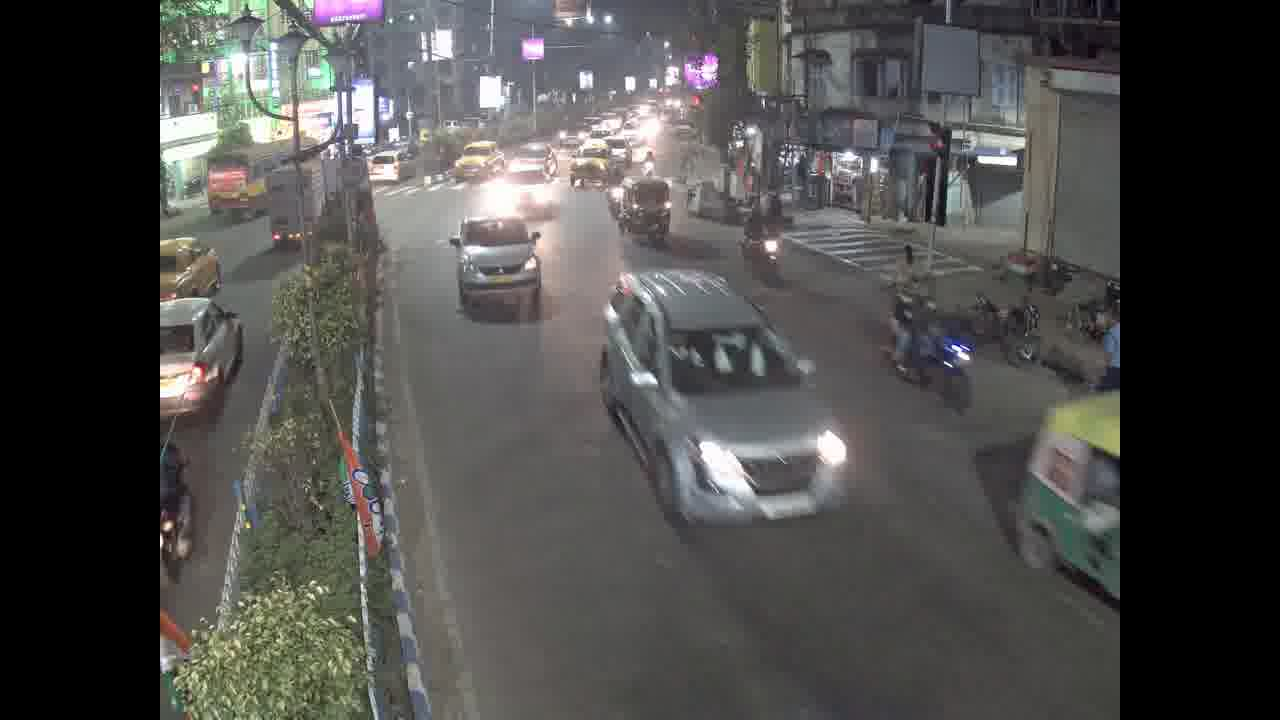auto-rickshaw: (626, 175, 677, 232)
bike: (883, 312, 973, 417), (741, 230, 805, 289)
car: (587, 255, 827, 508), (446, 214, 587, 334), (164, 307, 241, 412), (160, 232, 222, 288), (492, 172, 555, 213), (569, 148, 618, 188), (455, 148, 497, 182)
